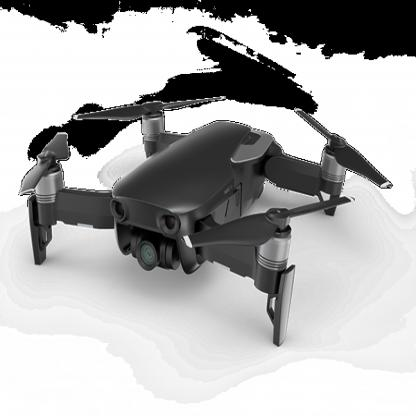drone: (15, 74, 392, 324)
